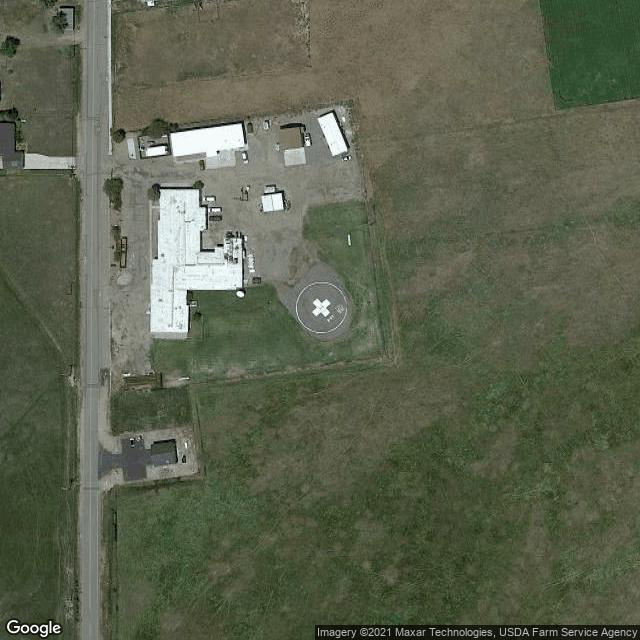Helipad: (305, 290, 339, 324)
